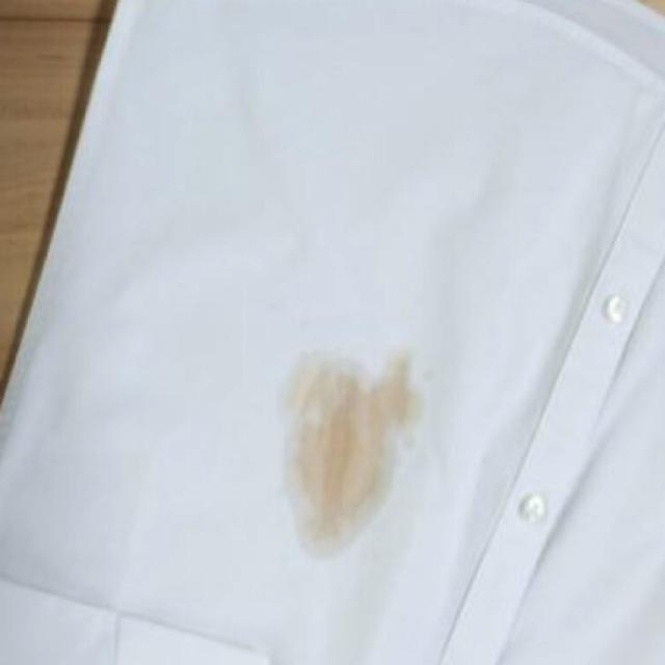coffee: (282, 350, 420, 558)
